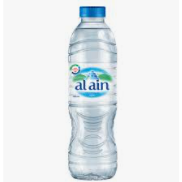Bottle: (68, 6, 118, 179)
